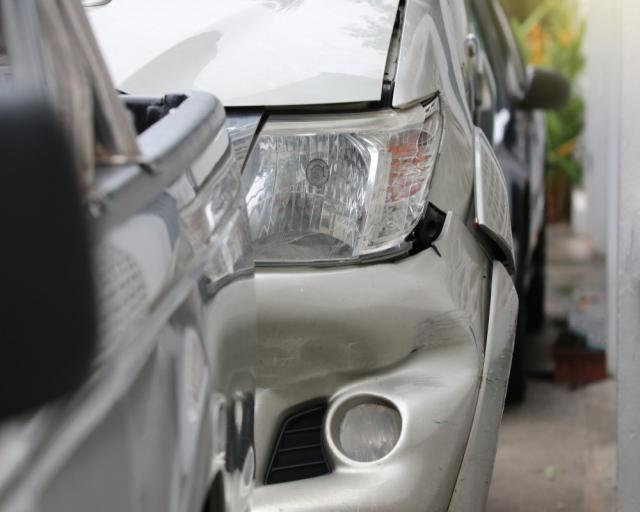crack: (431, 244, 442, 258)
dent: (340, 306, 482, 440)
lamp broken: (241, 93, 444, 266)
